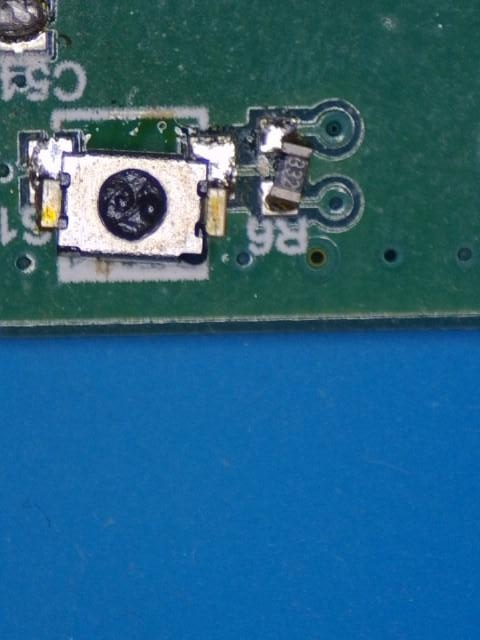pcb_defect: (29, 136, 235, 267), (260, 118, 314, 215)
